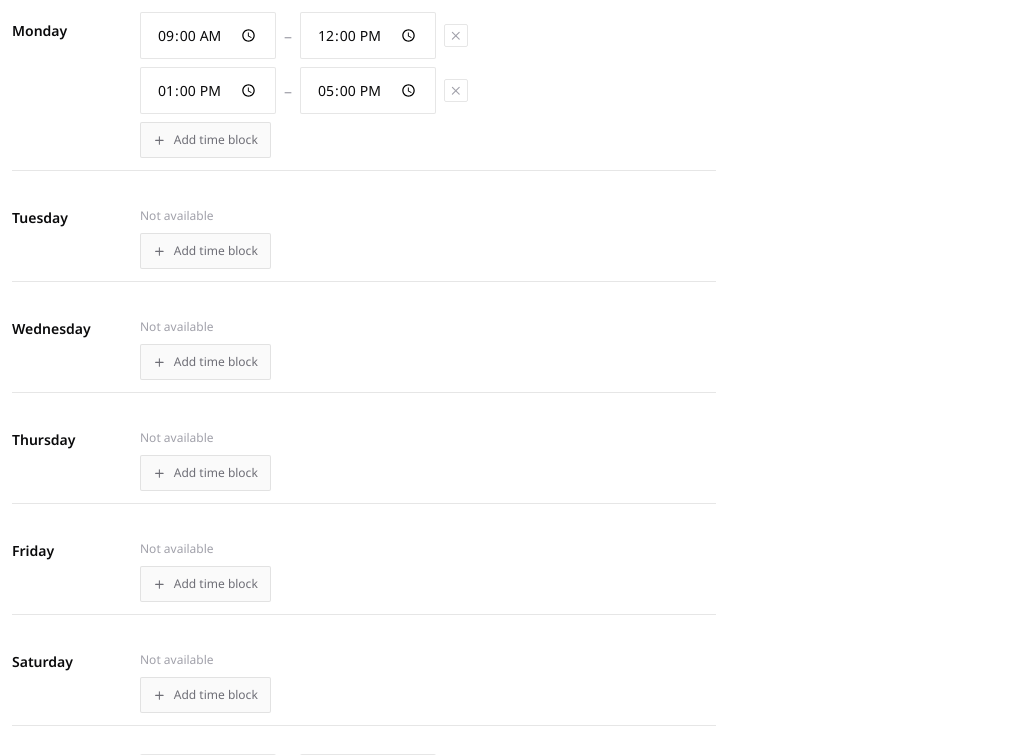
Test: AvailabilityRulesEditor › removes a block
The width and height of the screenshot is (1036, 755).
Check: the number of time fields named "Monday block start time" is 2, box [140, 12, 276, 59]; [140, 67, 276, 114]
Click the 1st button named "Remove Monday block": (456, 36) [444, 24, 468, 47]
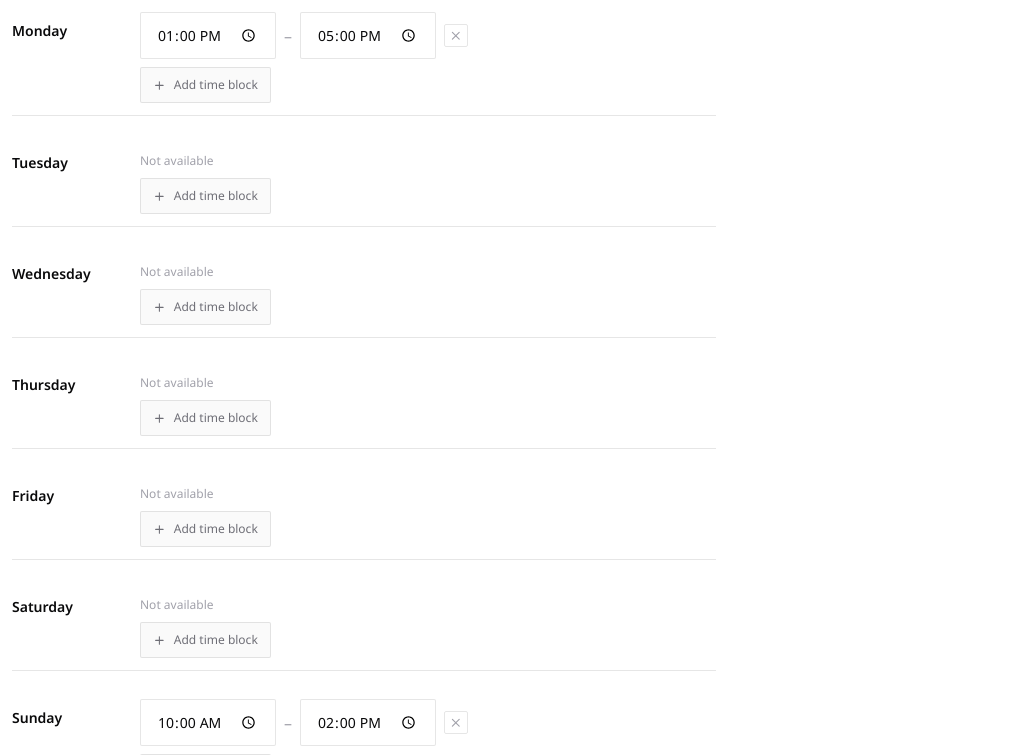
Check: the number of time fields named "Monday block start time" is 1, box [140, 12, 276, 59]
